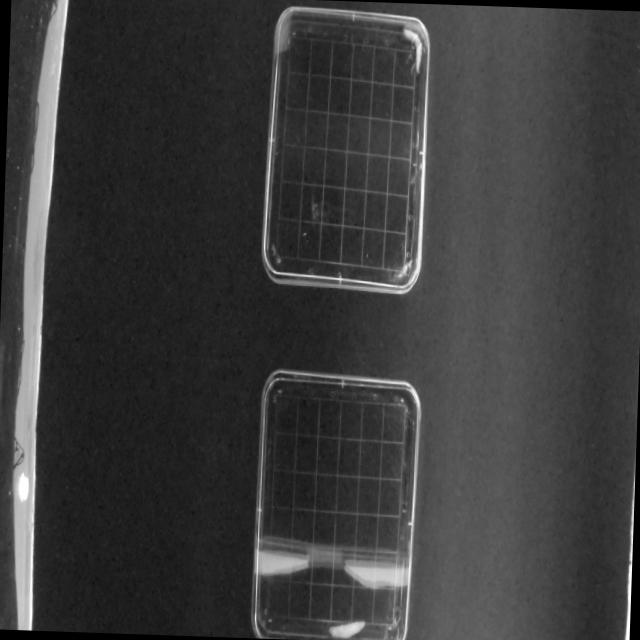larva: (398, 24, 422, 74), (328, 619, 366, 640)
